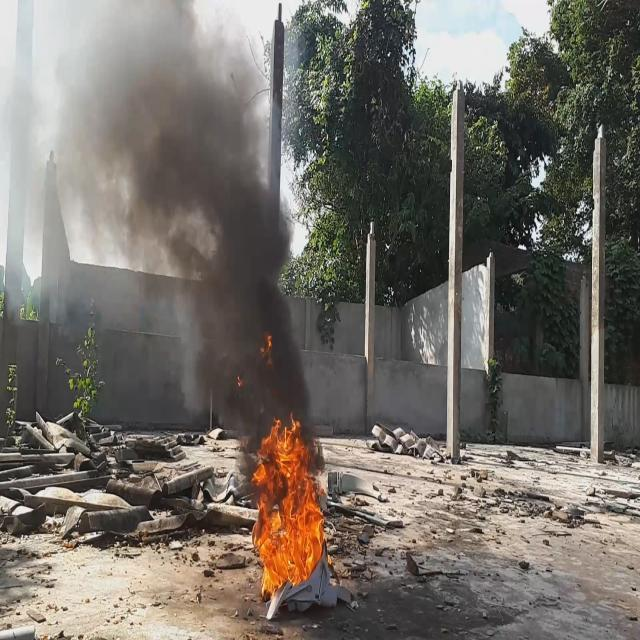Fire: (252, 414, 326, 600)
Smoke: (0, 0, 321, 477)
